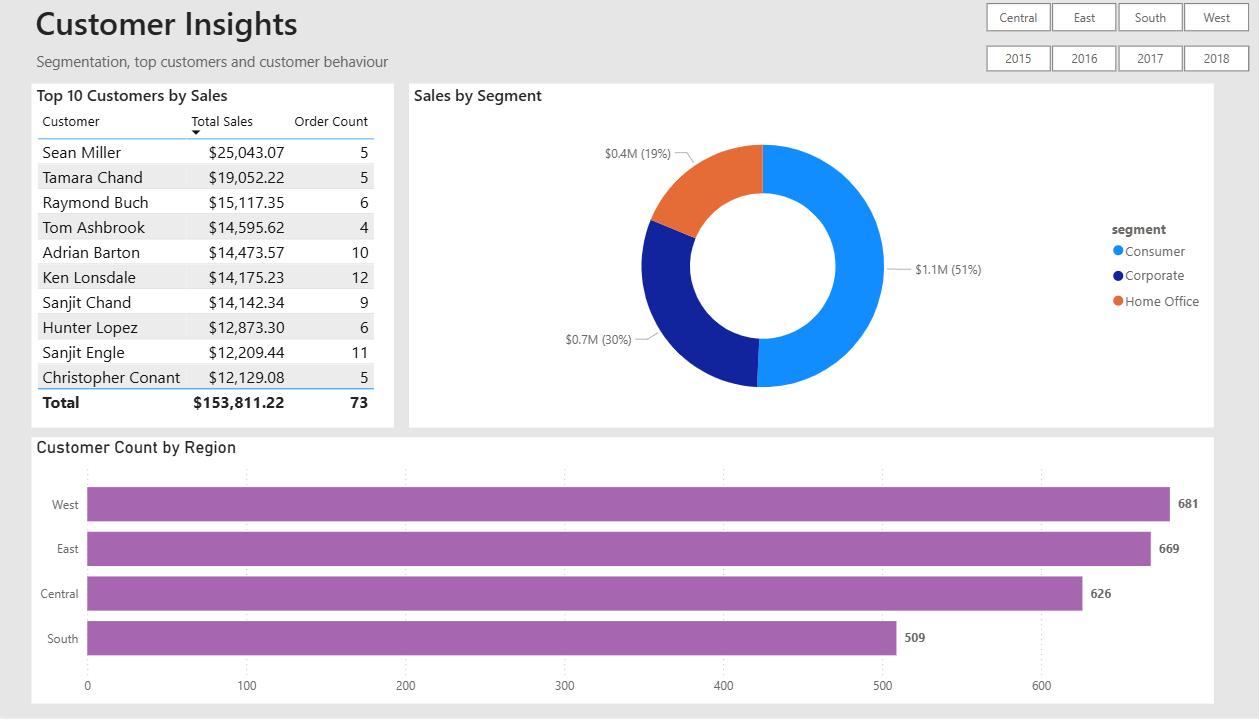

What the dashboard file says about the page in this screenshot:
{"tool":"powerbi","page":{"name":"Customers","canvas":[1280,720],"ordinal":2},"visuals":[{"type":"textbox","box":[0,0,345,61.5],"z":0},{"type":"textbox","box":[37.4,49.5,377.6,48.3],"z":1000},{"type":"slicer","fields":{"Values":["orders.region"]},"box":[966.4,0,312.5,42.2],"z":2000},{"type":"slicer","fields":{"Values":["dim_date.Year"]},"box":[966.4,42.2,312.5,37.4],"z":3000},{"type":"tableEx","title":"Top 10 Customers by Sales","fields":{"Values":["orders.customer_name","_Measures.Total Sales","_Measures.Order Count"]},"box":[37.5,87.5,362.5,343.8],"z":4000},{"type":"donutChart","title":"Sales by Segment","fields":{"Y":["_Measures.Total Sales"],"Category":["orders.segment"]},"box":[415,87.5,805,343.8],"z":5000},{"type":"barChart","fields":{"Y":["_Measures.Customer Count"],"Category":["orders.Region"]},"box":[37.4,441.6,1182.3,266.6],"z":6000}]}

Visuals, with their boxes in screenshot pixels (x1, y1, x2, y2), scaled from the page's 1280x720 canvas onto the 1259x719 screenshot:
textbox: 0, 0, 339, 61
textbox: 37, 49, 408, 98
slicer - orders.region: 951, 0, 1258, 42
slicer - dim_date.Year: 951, 42, 1258, 79
"Top 10 Customers by Sales" tableEx: 37, 87, 393, 431
"Sales by Segment" donutChart: 408, 87, 1200, 431
barChart - _Measures.Customer Count x orders.Region: 37, 441, 1200, 707
